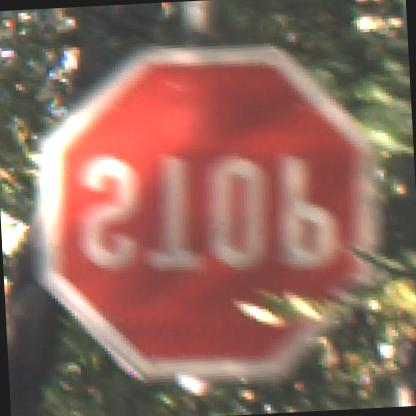stop: (27, 22, 381, 372)
